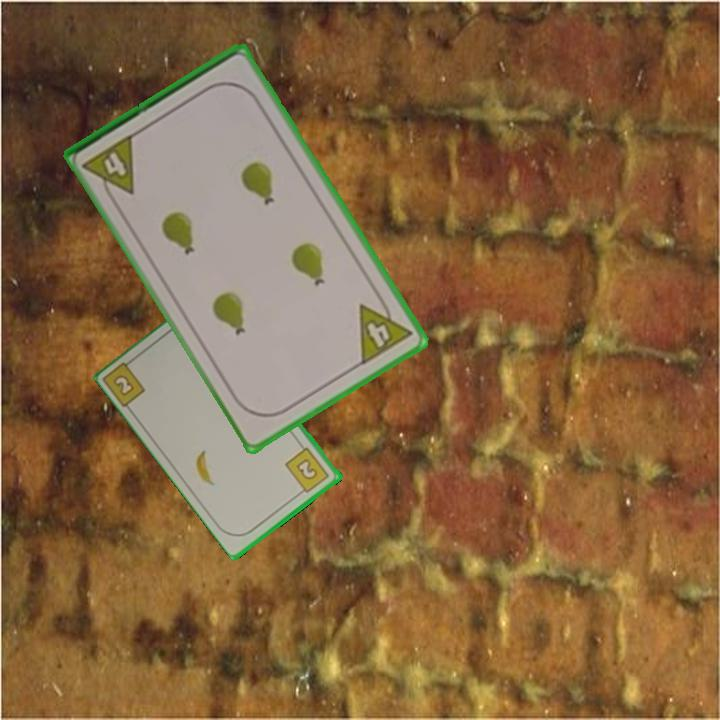2b: (101, 353, 149, 411), (282, 444, 332, 498)
4p: (355, 290, 416, 368), (79, 130, 139, 206)
